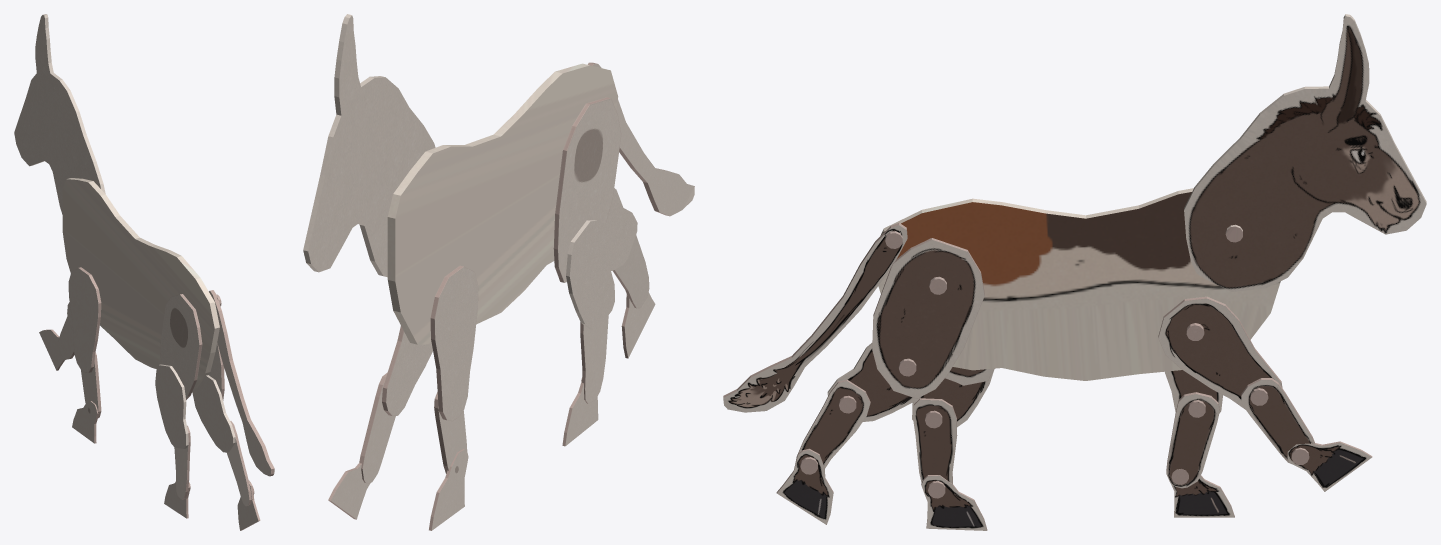
Rendered from Donkey Excited Right.fbx.
3 views of the same model, side by side, from view 1: azimuth 30°, elevation 25°; view 2: azimuth 150°, elevation 25°; view 3: azimuth 270°, elevation 25° (orthographic). The views are drawn at different scales.
Parts seen in each view (by area): view 1: Donke main body.002, Donke head.003, Donke leg F1.007, Donke Leg F1.007, Donke Tail.003, Donke Leg B2.007, Donke Leg B2.006, Plane.008, Plane.007, Donke Hoof F.007, Donke leg F2.007, Hoof B.006 (+4 smaller); view 2: Donke main body.002, Donke head.003, Donke leg F1.007, Donke Leg F1.007, Donke Leg B2.007, Donke Tail.003, Donke Leg F1.006, Donke leg F2.006, Plane.007, Donke Hoof F.007, Donke Leg B2.006, Plane.008 (+4 smaller); view 3: Donke main body.002, Donke head.003, Donke leg F1.006, Donke Leg F1.006, Donke Tail.003, Donke leg F2.007, Plane.008, Donke leg F2.006, Plane.007, Hoof B.007, Donke Hoof F.006, Hoof B.006 (+4 smaller).
Boxes of the visible parts, box(x1,y1,x2,y2) form: Donke main body.002: box(62, 178, 219, 388); Donke head.003: box(14, 14, 105, 214); Donke leg F1.007: box(160, 294, 202, 399); Donke Leg F1.007: box(68, 267, 101, 372); Donke Tail.003: box(209, 290, 274, 476); Donke Leg B2.007: box(155, 364, 188, 448); Donke Leg B2.006: box(192, 375, 235, 452); Plane.008: box(227, 421, 251, 506); Plane.007: box(174, 425, 190, 499); Donke Hoof F.007: box(72, 401, 98, 443); Donke leg F2.007: box(81, 352, 101, 418); Hoof B.006: box(237, 480, 260, 530); Donke main body.002: box(387, 63, 618, 344); Donke head.003: box(303, 14, 435, 277); Donke leg F1.007: box(553, 97, 621, 282); Donke Leg F1.007: box(430, 265, 478, 421); Donke Leg B2.007: box(566, 220, 614, 329); Donke Tail.003: box(588, 62, 694, 216); Donke Leg F1.006: box(382, 326, 432, 415); Donke leg F2.006: box(359, 372, 395, 483); Plane.007: box(580, 315, 608, 403); Donke Hoof F.007: box(429, 449, 468, 530); Donke Leg B2.006: box(606, 188, 637, 270); Plane.008: box(613, 235, 649, 308); Donke main body.002: box(878, 188, 1280, 380); Donke head.003: box(1184, 14, 1426, 291); Donke leg F1.006: box(872, 238, 984, 398); Donke Leg F1.006: box(1158, 296, 1282, 409); Donke Tail.003: box(723, 223, 907, 412); Donke leg F2.007: box(1166, 392, 1219, 488); Plane.008: box(795, 379, 870, 468); Donke leg F2.006: box(1241, 378, 1314, 464); Plane.007: box(913, 398, 957, 484); Hoof B.007: box(921, 475, 987, 530); Donke Hoof F.006: box(1287, 441, 1372, 491); Hoof B.006: box(776, 448, 833, 524).
Bounding box in the file's own units: 13.41 × 176 × 214.
